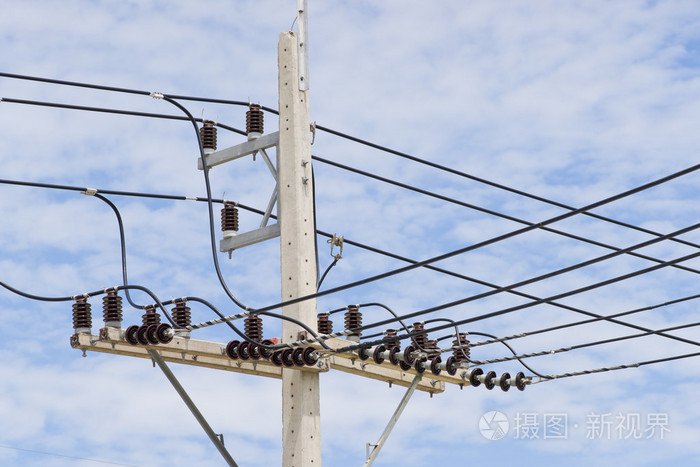insulator: (467, 366, 528, 394), (358, 341, 416, 367), (123, 320, 170, 345), (226, 336, 274, 360), (400, 356, 464, 373), (274, 346, 318, 368)
